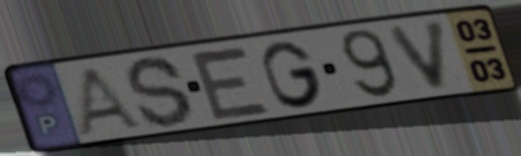9: (336, 27, 402, 100)
A: (74, 63, 149, 136)
E: (185, 44, 276, 122)
G: (258, 38, 327, 111)
S: (122, 53, 197, 130)
V: (383, 16, 450, 93)
